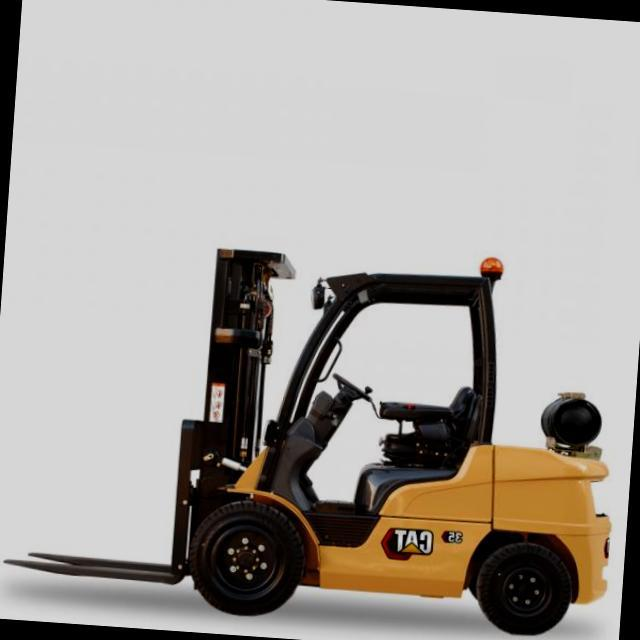forklift: (146, 215, 619, 640)
